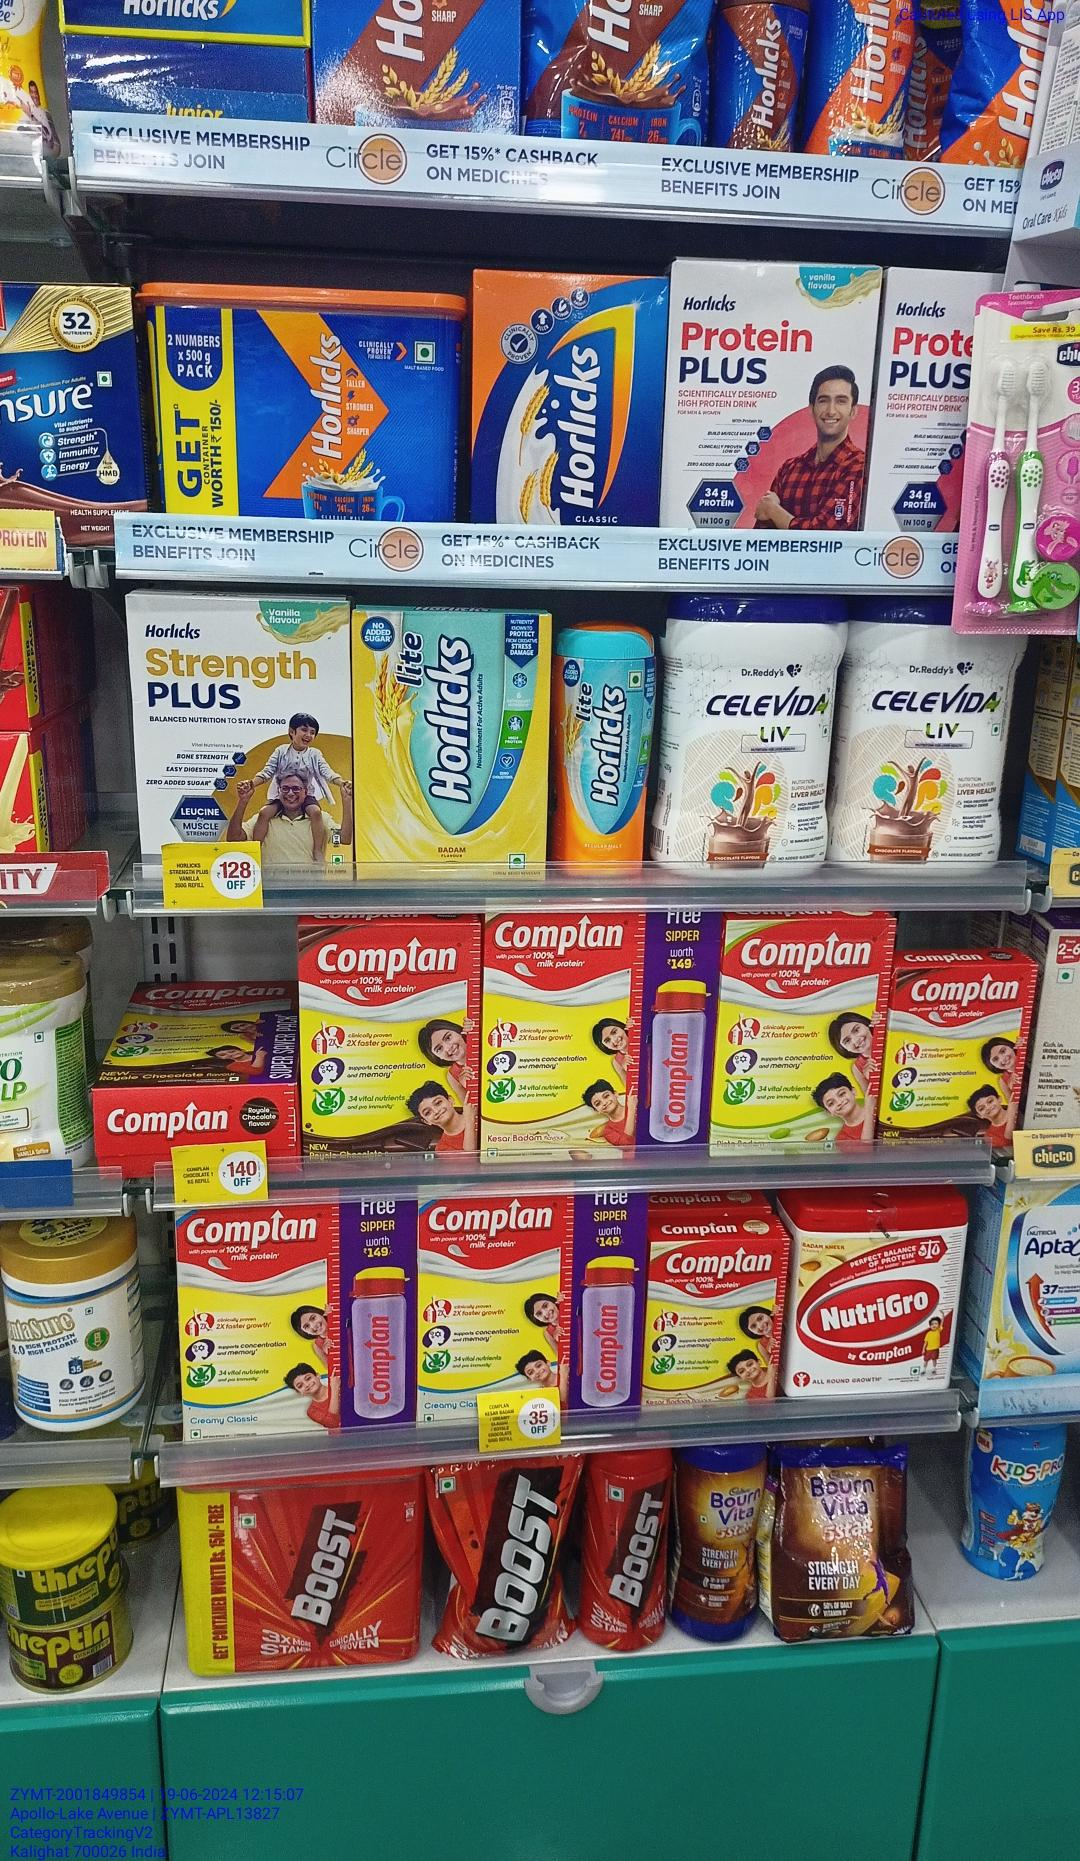BOURN_VITA_FIVE_STAR_MAGIC_500_G_JAR: (680, 1452, 759, 1643)
COMPLAN_KESAR_BADAM_200_GMS_PACK: (649, 1239, 779, 1418)
COMPLAN_PISTA_BADAM_500_GMS_PACK: (721, 922, 885, 1157)
HORLICKS_LITE_REGULAR_MALT_500_GM_JAR: (554, 631, 652, 882)
HORLICK_MALT_1_KG_CONTAINER: (154, 287, 468, 531)
